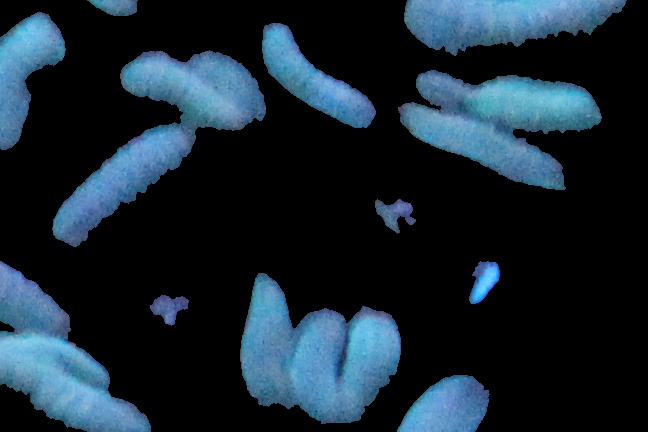larvae: (54, 121, 203, 256), (399, 103, 571, 191), (1, 339, 154, 431), (403, 1, 630, 60), (259, 23, 375, 129), (111, 51, 252, 138), (485, 74, 605, 150), (1, 15, 69, 148), (240, 270, 297, 408), (349, 307, 407, 421), (294, 307, 347, 427), (1, 256, 77, 336), (401, 365, 487, 432), (193, 48, 265, 117), (30, 338, 108, 385), (415, 70, 473, 111)
